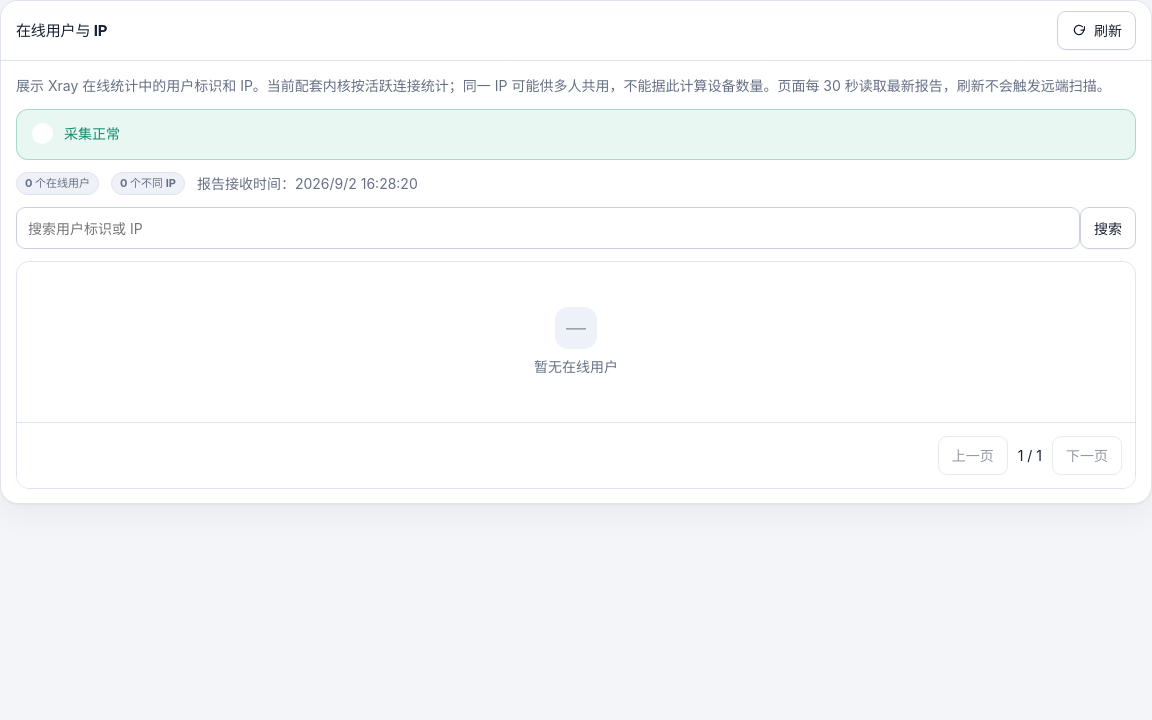
Scenario: online users › reports complete empty separately from a limited sample
Expected: the text "0 个在线用户" is shown, [16, 172, 99, 195]
Expected: the text "暂无在线用户" is shown, [534, 356, 618, 378]
What coordinates should you click on to do the following:
click the button with aria-label "刷新在线用户"
I would click on:
 (1096, 30)
Its box is [1057, 11, 1136, 50].
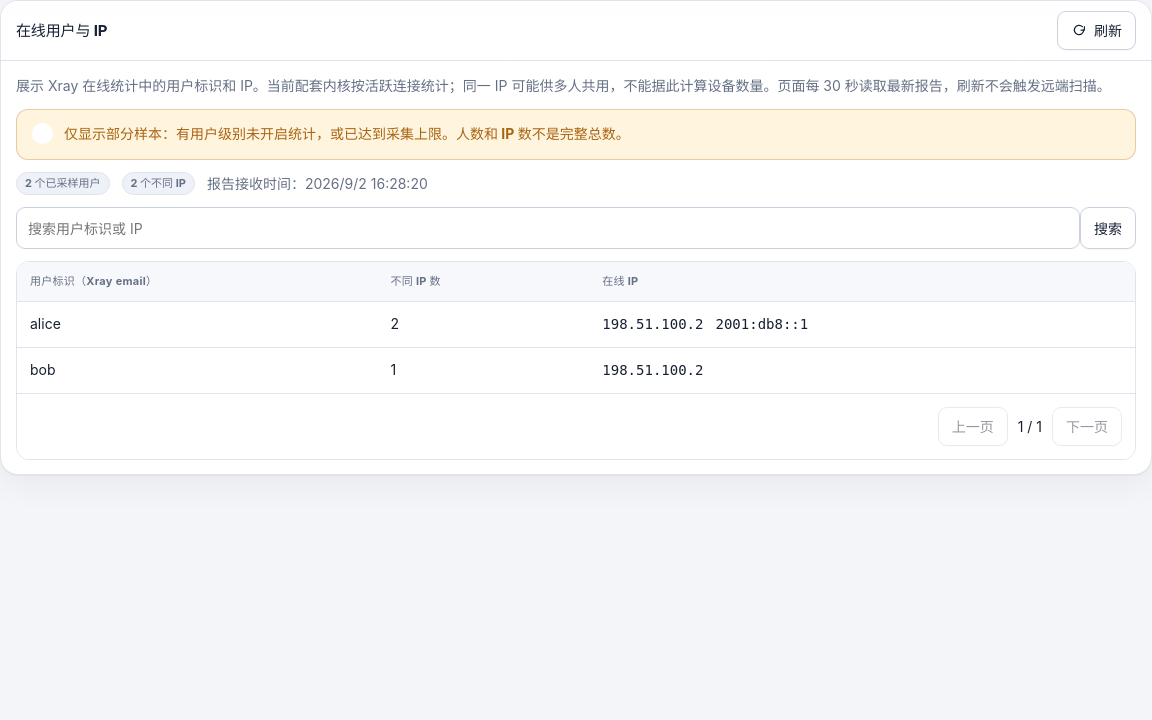
Result: the text "2 个已采样用户" is shown at [16, 172, 110, 195]
Result: the text "仅显示部分样本：有用户级别未开启统计，或已达到采集上限。人数和 IP 数不是完整总数。" is shown at [64, 125, 630, 142]
